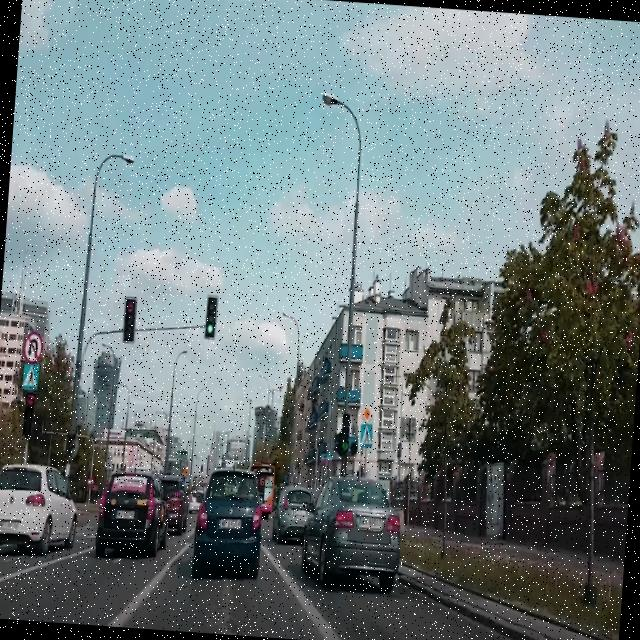Droga z pierwszenstwem: (360, 403, 372, 423)
Zakaz wjazdu: (86, 474, 94, 488)
